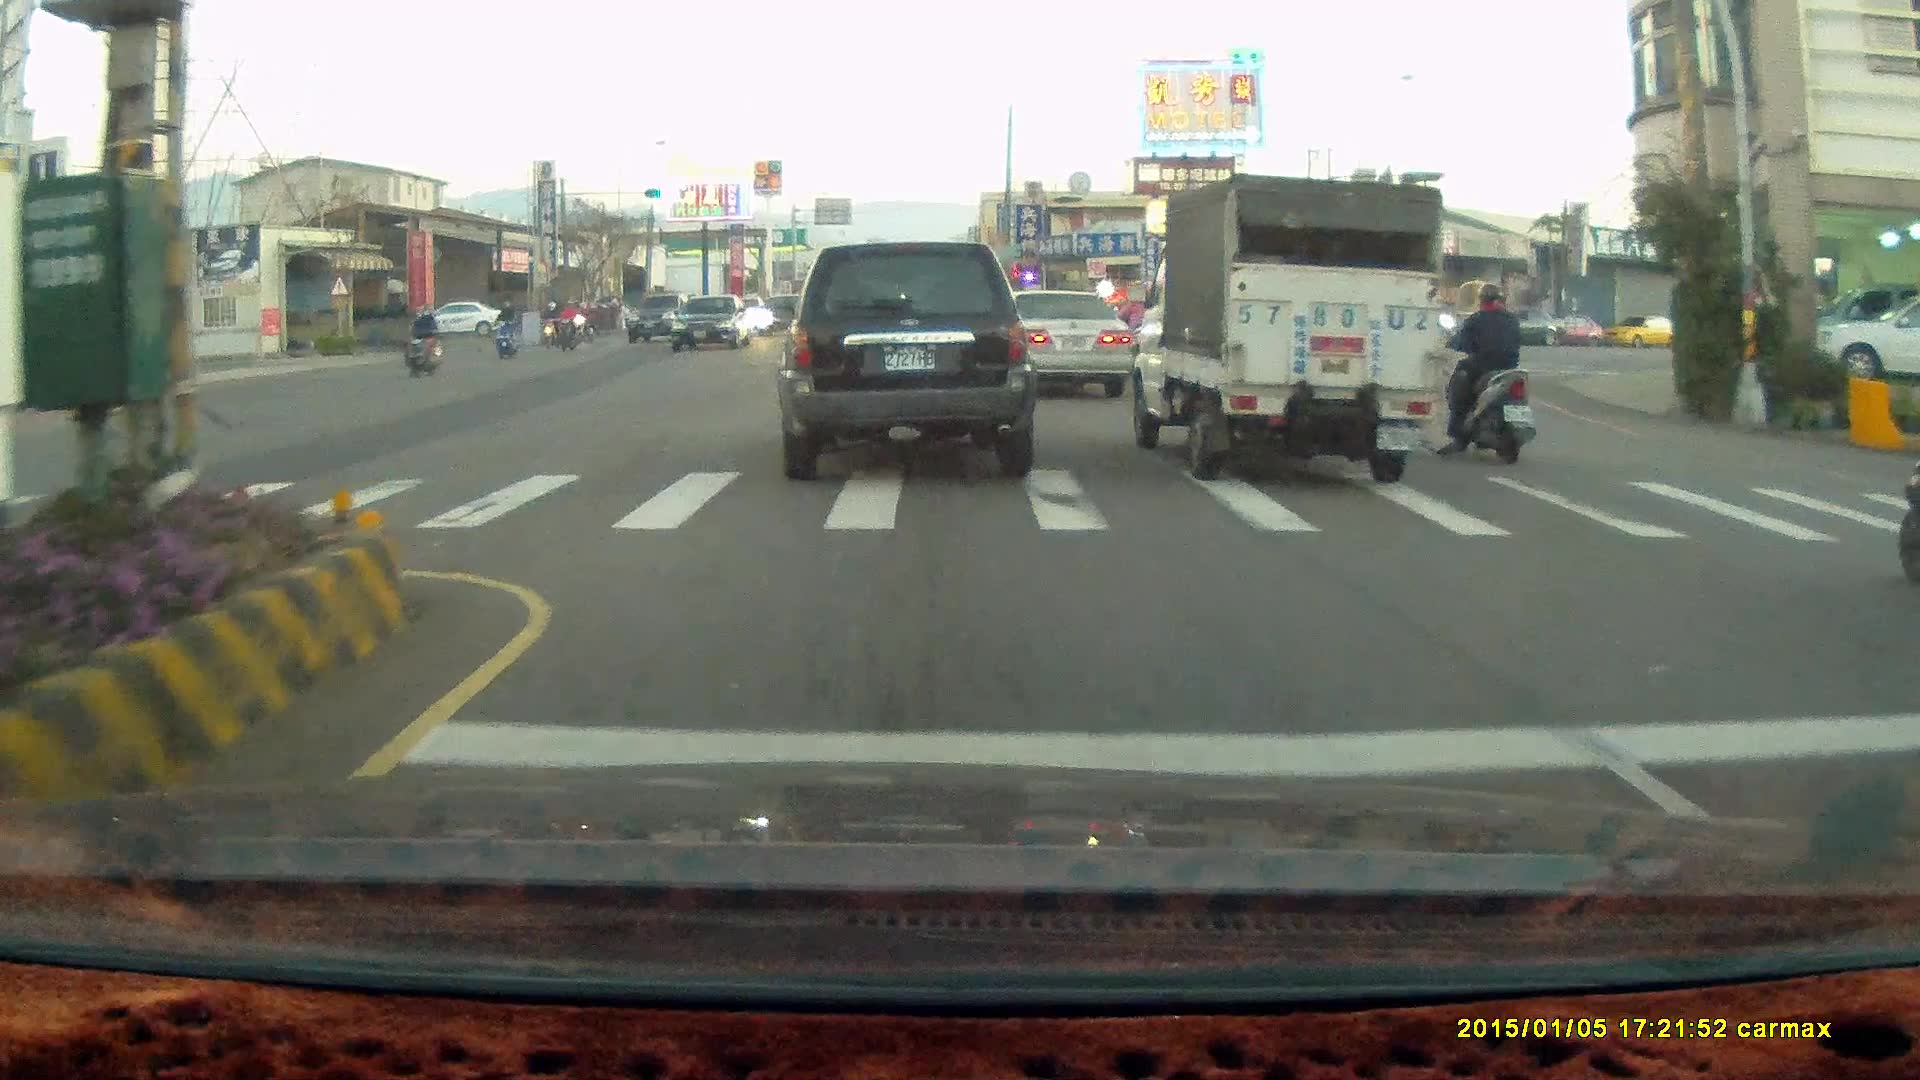rider: (1431, 280, 1537, 471), (408, 306, 443, 374), (489, 299, 517, 359), (554, 297, 582, 351), (539, 298, 566, 347)
vehicle: (1126, 171, 1442, 480), (775, 239, 1039, 478), (985, 288, 1129, 396), (1003, 290, 1135, 399), (1814, 295, 1920, 386), (36, 314, 131, 399), (670, 294, 754, 354), (1464, 309, 1571, 350), (431, 302, 508, 340)
